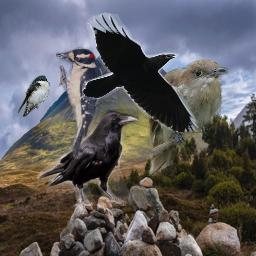Crow: (82, 12, 199, 132), (37, 109, 139, 206)
Cuckoo: (145, 58, 228, 176)
Swallow: (18, 74, 51, 117)
Woodpecker: (56, 46, 105, 157)
